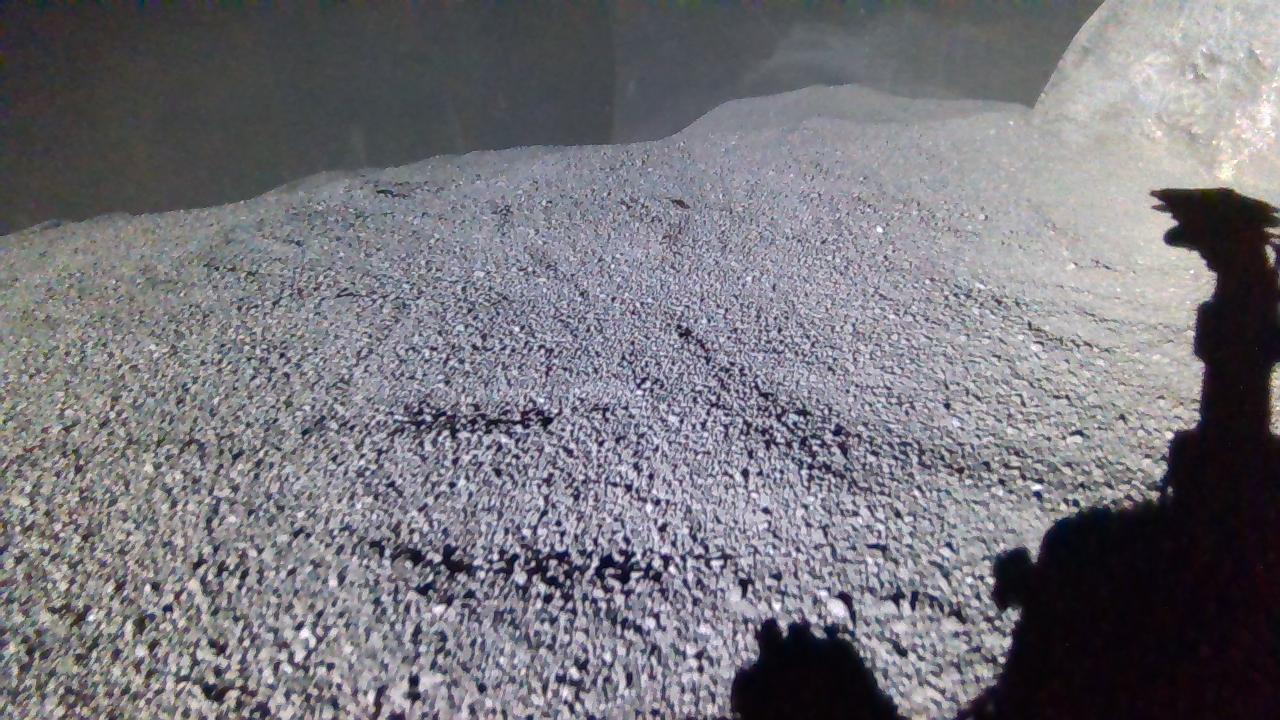rock: (1035, 4, 1278, 195)
